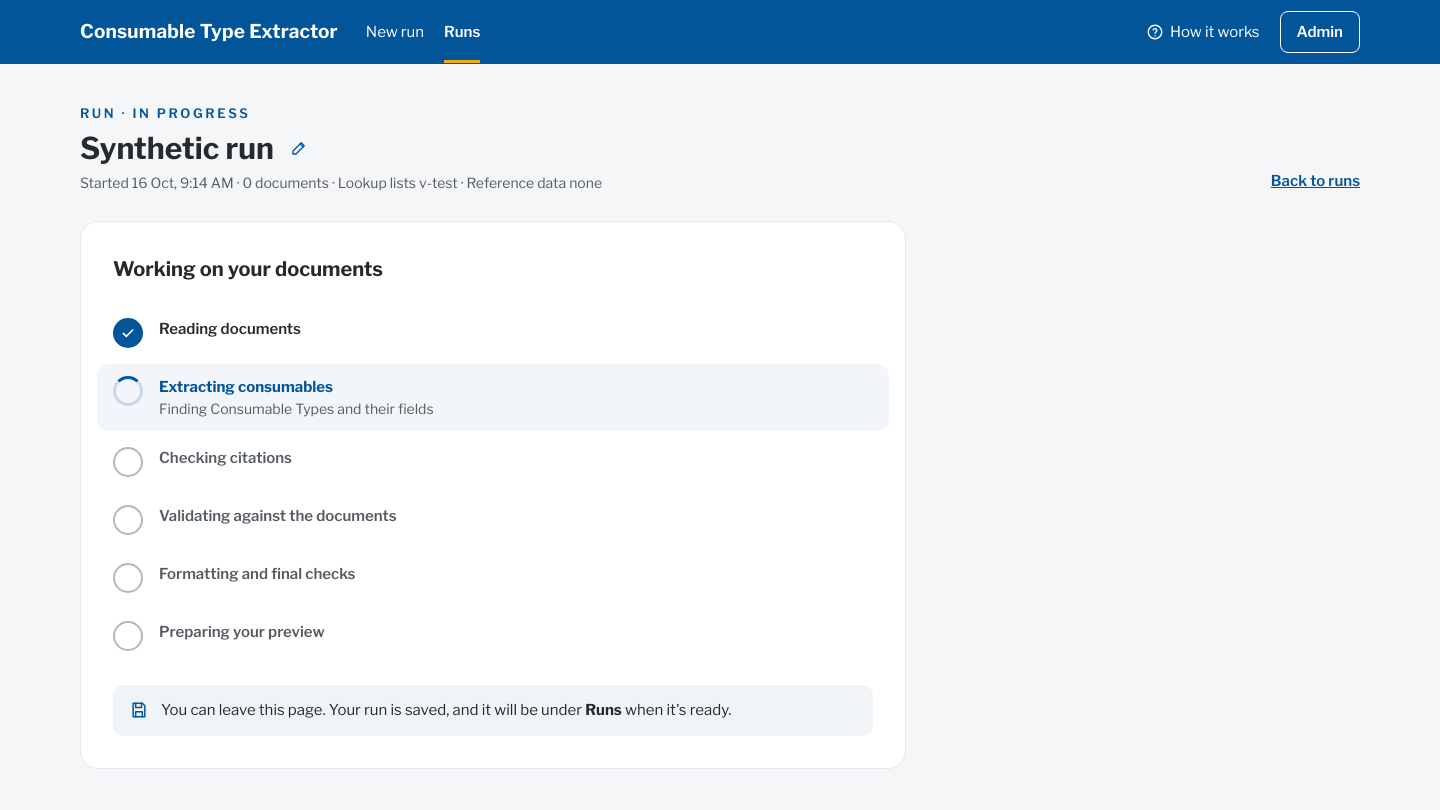
Test case: Processing screen rename › renames the run through PATCH /runs/{run_id} while it is processed
Click the button named "Rename run". click: (299, 148)
box: x1=282 y1=130 x2=316 y2=164
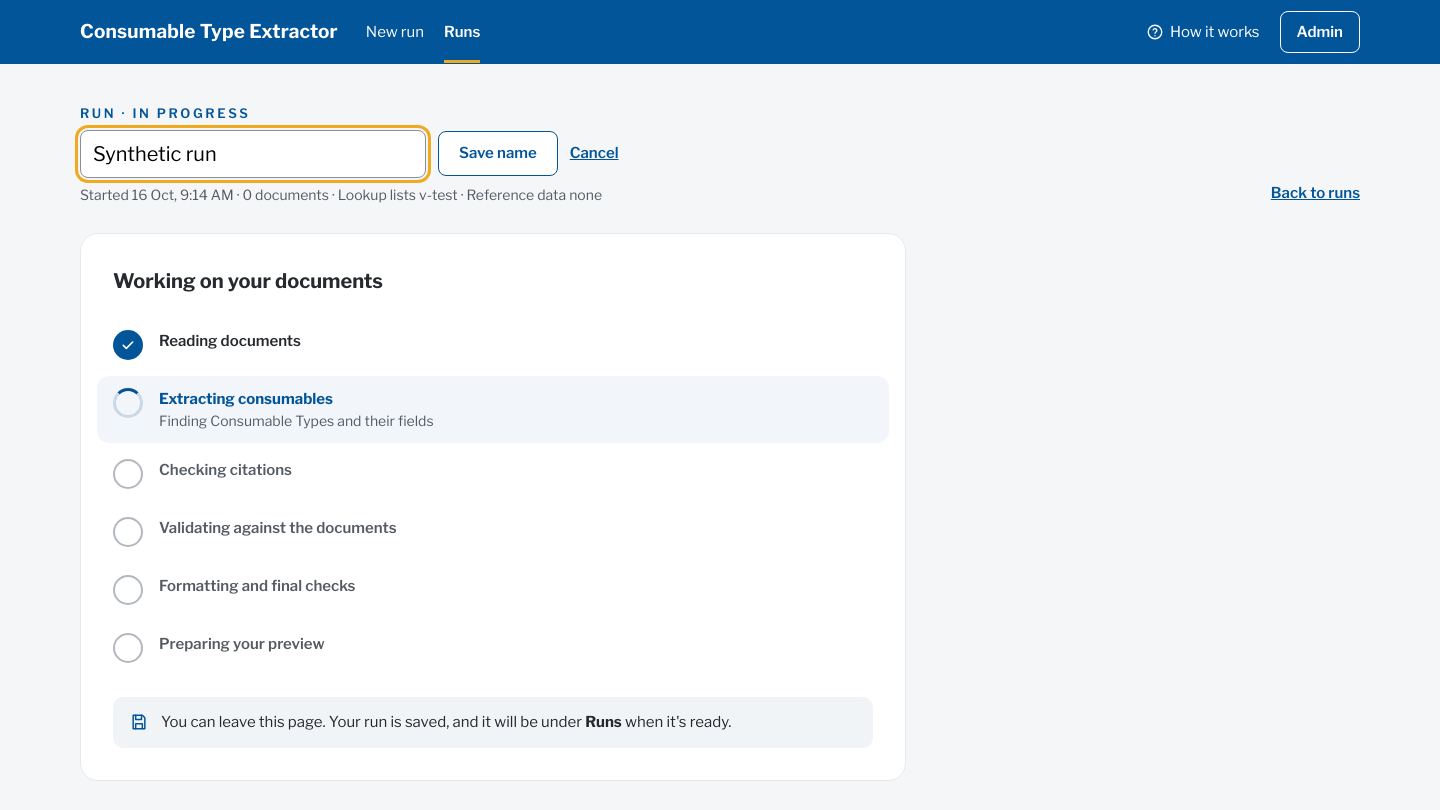
Replace the text in the field named "Run name" with "  Renamed synthetic run ". click: (253, 154)
box: x1=80 y1=130 x2=426 y2=178
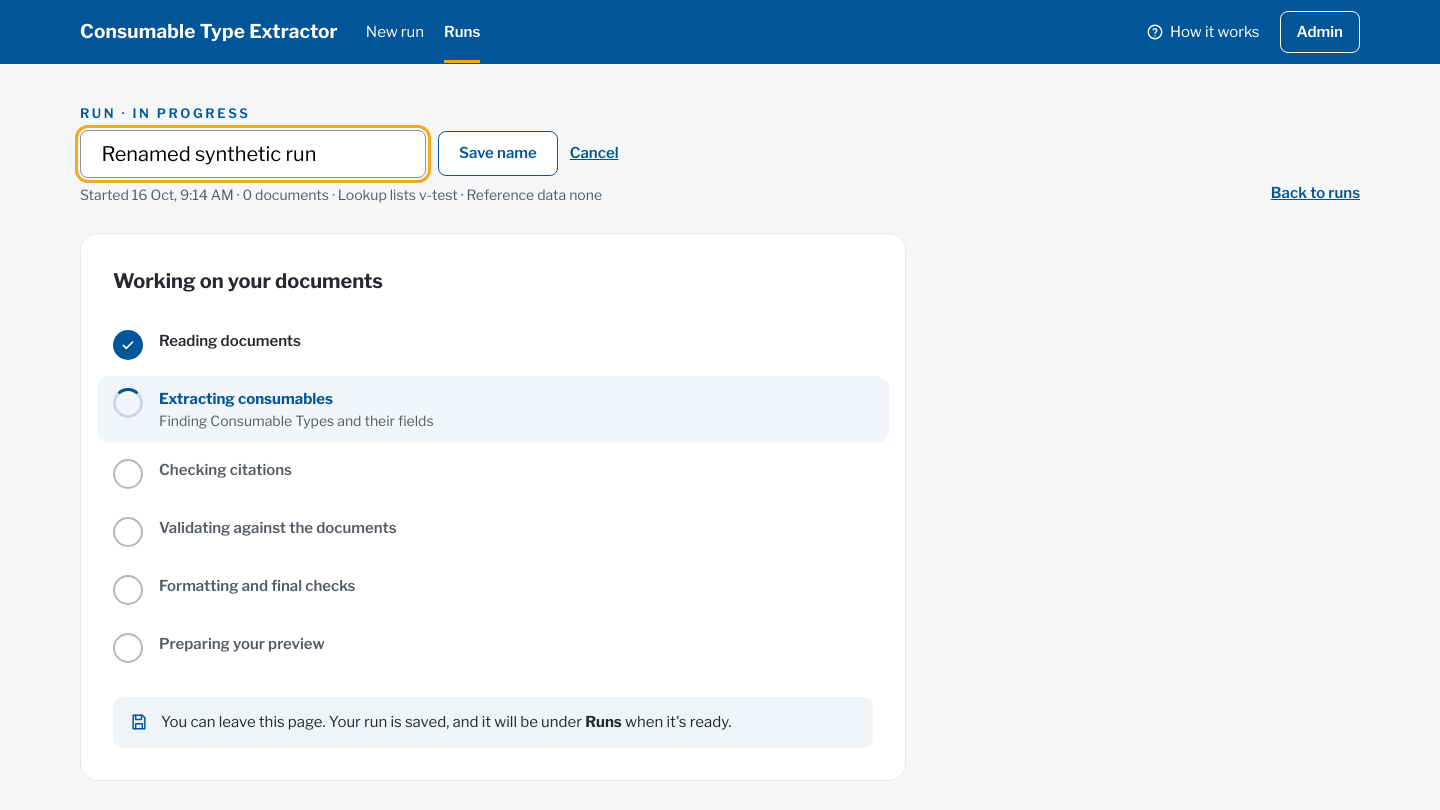
Click the button "Save name". click: (498, 154)
box: x1=438 y1=131 x2=558 y2=176
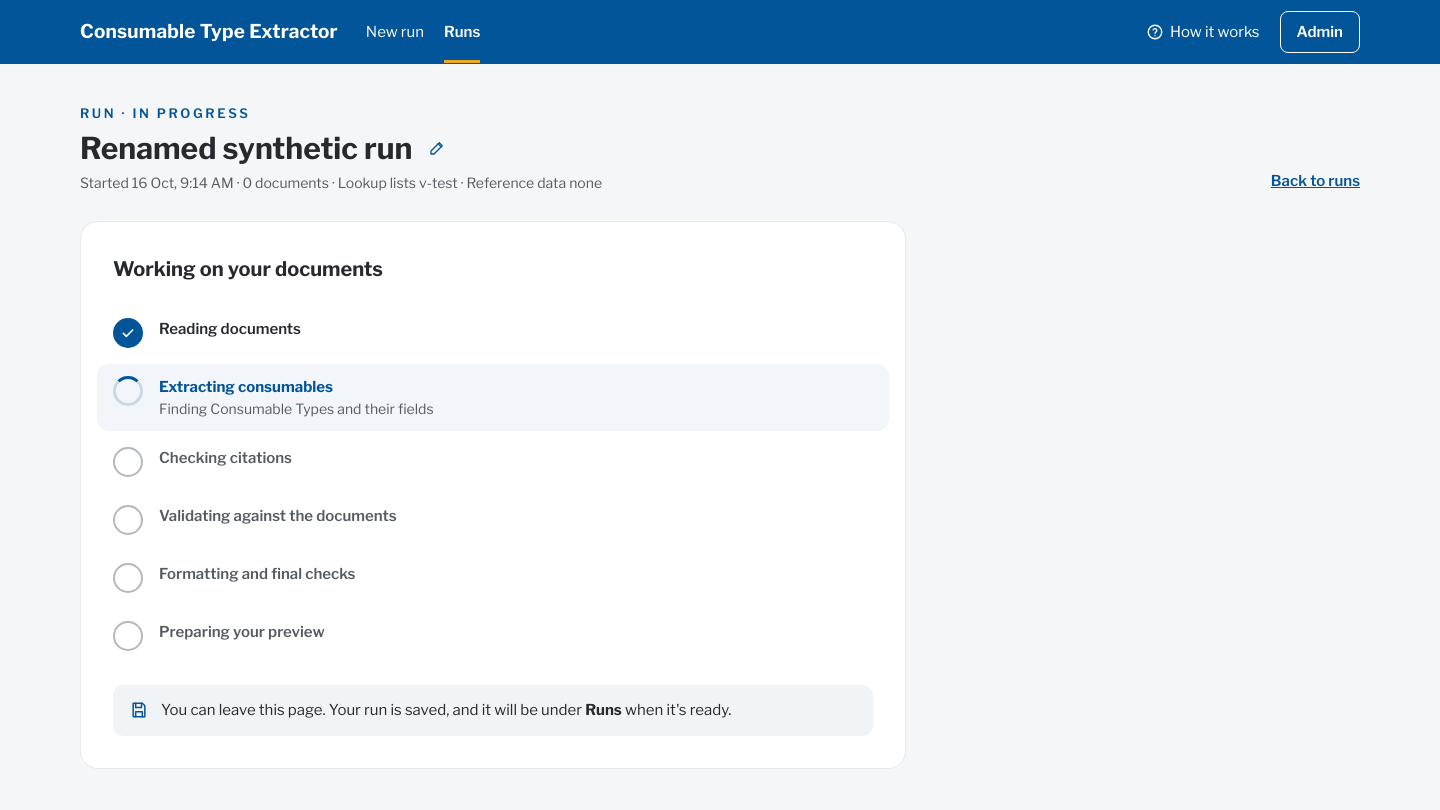
Expected: the heading "Renamed synthetic run" is shown, x1=80 y1=130 x2=412 y2=166
